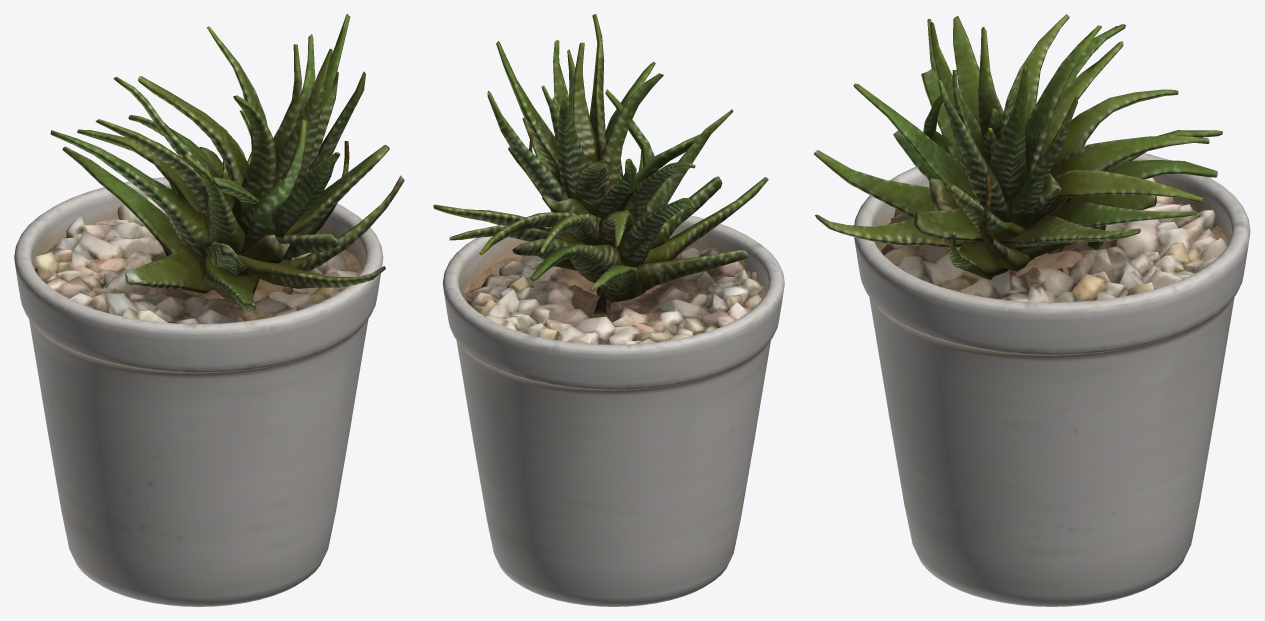
File: potted_plant_04.glb
3 renders of one model, left to right at view 1: azimuth 30°, elevation 25°; view 2: azimuth 150°, elevation 25°; view 3: azimuth 270°, elevation 25°, orthographic. The views are drawn at different scales.
Parts seen in each view (by area): view 1: potted_plant_04_pot, potted_plant_04_plant, potted_plant_04_ground, potted_plant_04_dirt; view 2: potted_plant_04_pot, potted_plant_04_plant, potted_plant_04_ground, potted_plant_04_dirt; view 3: potted_plant_04_pot, potted_plant_04_plant, potted_plant_04_ground, potted_plant_04_dirt.
Part boxes in pixels (x1,y1,x2,y2): potted_plant_04_pot: [14, 177, 383, 606]; potted_plant_04_plant: [50, 14, 404, 311]; potted_plant_04_ground: [34, 196, 357, 323]; potted_plant_04_dirt: [34, 237, 362, 307]; potted_plant_04_pot: [442, 215, 784, 606]; potted_plant_04_plant: [433, 14, 768, 314]; potted_plant_04_ground: [462, 247, 765, 344]; potted_plant_04_dirt: [462, 247, 765, 306]; potted_plant_04_pot: [854, 144, 1250, 606]; potted_plant_04_plant: [813, 14, 1222, 279]; potted_plant_04_ground: [881, 177, 1227, 302]; potted_plant_04_dirt: [875, 200, 1228, 297].
Bounding box in the file's own units: 0.1679 × 0.2675 × 0.1848.
Materials: 1 (1 with a texture image).
